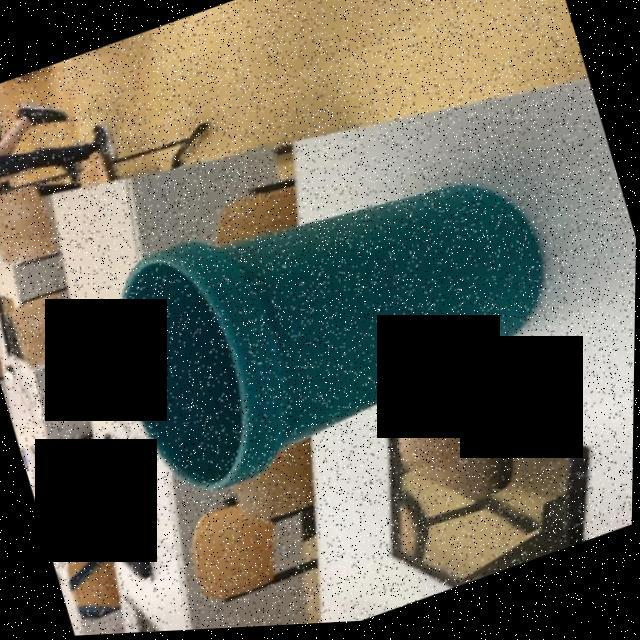bin: (50, 96, 611, 546)
